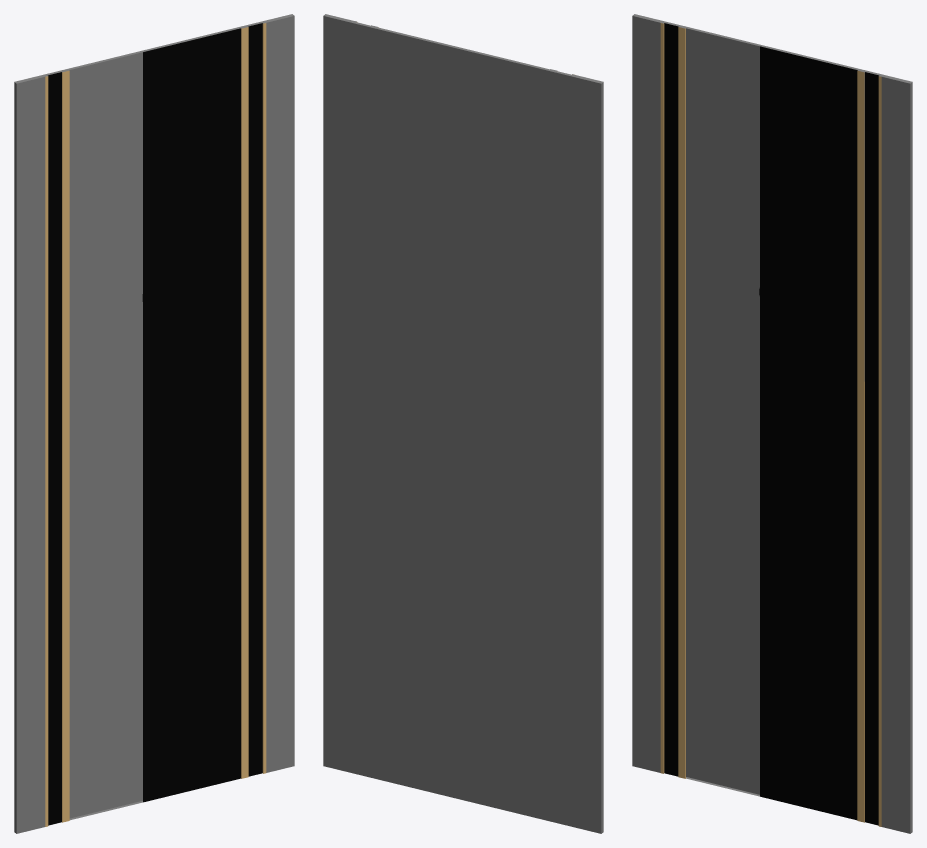
The model's file is Streight.fbx.
The picture shows the model from 3 angles, left to right: view 1: azimuth 30°, elevation 25°; view 2: azimuth 150°, elevation 25°; view 3: azimuth 330°, elevation 25°; orthographic projection.
Visible parts, largest first — view 1: Road_Streight; view 2: Road_Streight; view 3: Road_Streight.
Boxes of the visible parts, x1,y1,x2,y2 form: Road_Streight: [14, 14, 294, 833]; Road_Streight: [323, 14, 603, 833]; Road_Streight: [632, 14, 912, 833].
Size of the model in its own units: 970 by 2500 by 16.
Materials: 4 (1 with a texture image).
